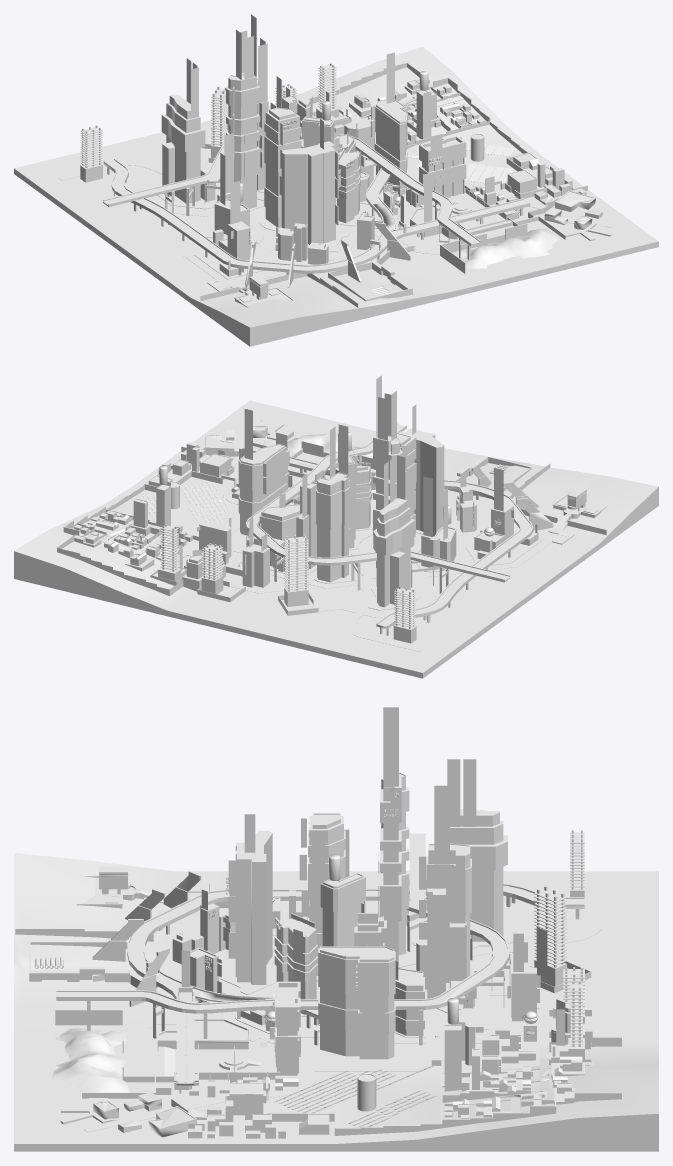
The picture shows the model from 3 angles, top to bottom: view 1: azimuth 30°, elevation 25°; view 2: azimuth 150°, elevation 25°; view 3: azimuth 270°, elevation 25°; orthographic projection. The views are drawn at different scales.
Parts seen in each view (by area): view 1: Terrain, Buildings_0, Buildings_adds, Buildings_0_1, Bridge_base, Terrain_base, Buildings_1, Streets, Buildings_Windows, Buildings_2, Publicity_2D_1, Bridge_outline (+13 smaller); view 2: Terrain, Buildings_0, Terrain_base, Buildings_0_1, Streets, Buildings_adds, Buildings_2, Buildings_1, Bridge_base, Buildings_3, Publicity_2D, Buildings_2_top (+12 smaller); view 3: Terrain, Buildings_0, Buildings_adds, Buildings_0_1, Streets, Terrain_base, Bridge_base, Buildings_2, Buildings_Windows, Buildings_2_top, Buildings_1, Publicity_2D (+14 smaller).
Boxes of the visible parts, x1,y1,x2,y2 form: Terrain: [14, 46, 658, 327]; Buildings_0: [162, 77, 462, 244]; Buildings_adds: [202, 77, 611, 307]; Buildings_0_1: [161, 73, 466, 215]; Bridge_base: [102, 133, 530, 273]; Terrain_base: [14, 168, 658, 346]; Buildings_1: [80, 122, 519, 276]; Streets: [58, 139, 614, 288]; Buildings_Windows: [164, 79, 561, 275]; Buildings_2: [297, 80, 602, 229]; Publicity_2D_1: [190, 52, 432, 224]; Bridge_outline: [103, 132, 529, 271]; Terrain: [14, 400, 658, 672]; Buildings_0: [240, 434, 444, 607]; Terrain_base: [14, 487, 658, 678]; Buildings_0_1: [238, 435, 415, 555]; Streets: [222, 424, 564, 651]; Buildings_adds: [63, 419, 608, 615]; Buildings_2: [74, 426, 267, 591]; Buildings_1: [199, 488, 538, 643]; Bridge_base: [245, 424, 533, 629]; Buildings_3: [160, 524, 415, 628]; Publicity_2D: [276, 375, 466, 507]; Buildings_2_top: [74, 426, 267, 580]; Terrain: [14, 853, 658, 1143]; Buildings_0: [235, 776, 503, 1075]; Buildings_adds: [29, 866, 592, 1135]; Buildings_0_1: [274, 777, 507, 1075]; Streets: [84, 886, 602, 1131]; Terrain_base: [14, 1113, 658, 1151]; Bridge_base: [56, 833, 584, 1085]; Buildings_2: [93, 1007, 584, 1138]; Buildings_Windows: [190, 824, 579, 1118]; Buildings_2_top: [93, 1003, 584, 1134]; Buildings_1: [157, 890, 584, 1095]; Publicity_2D: [181, 707, 476, 994].
Bounding box in the file's own units: 100000 × 45561 × 100000.
2 materials, 2 textured.
